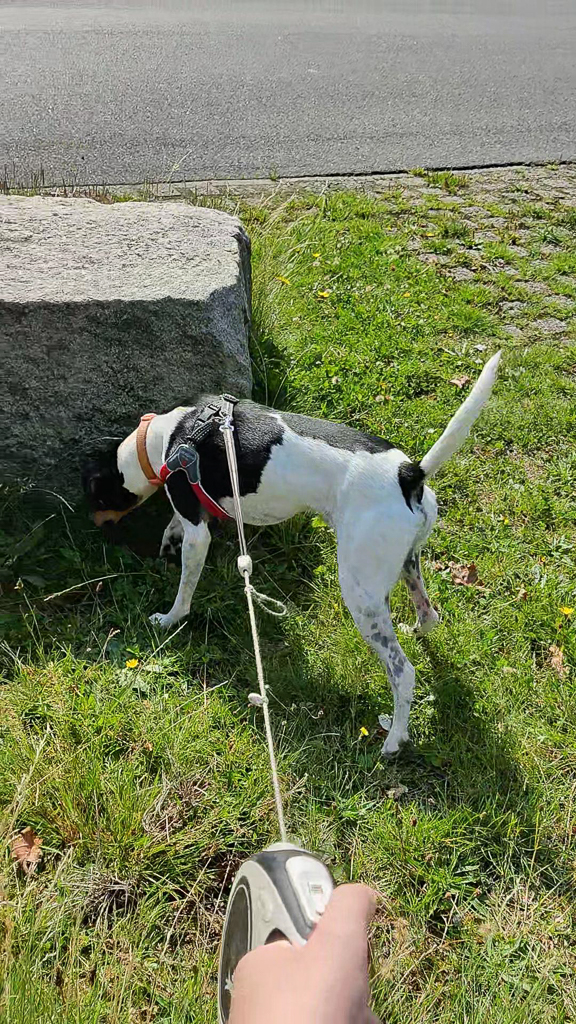Dog: (54, 315, 533, 772)
Humanoid: (211, 874, 401, 1024)
